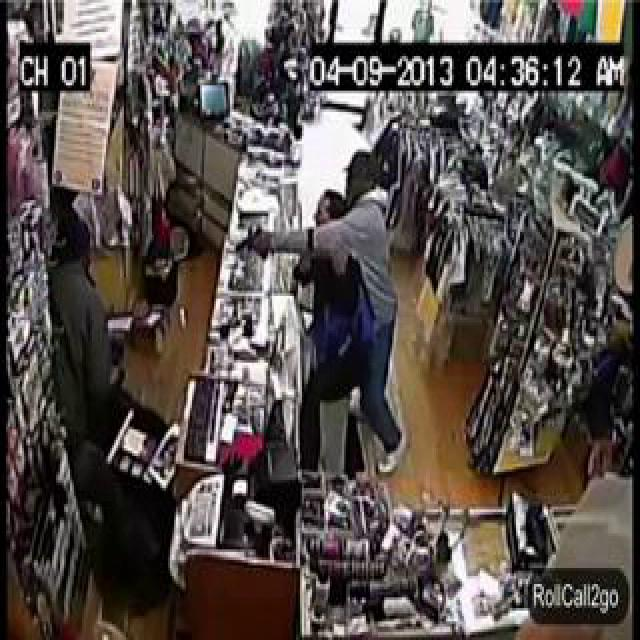robbery: (63, 133, 439, 640)
